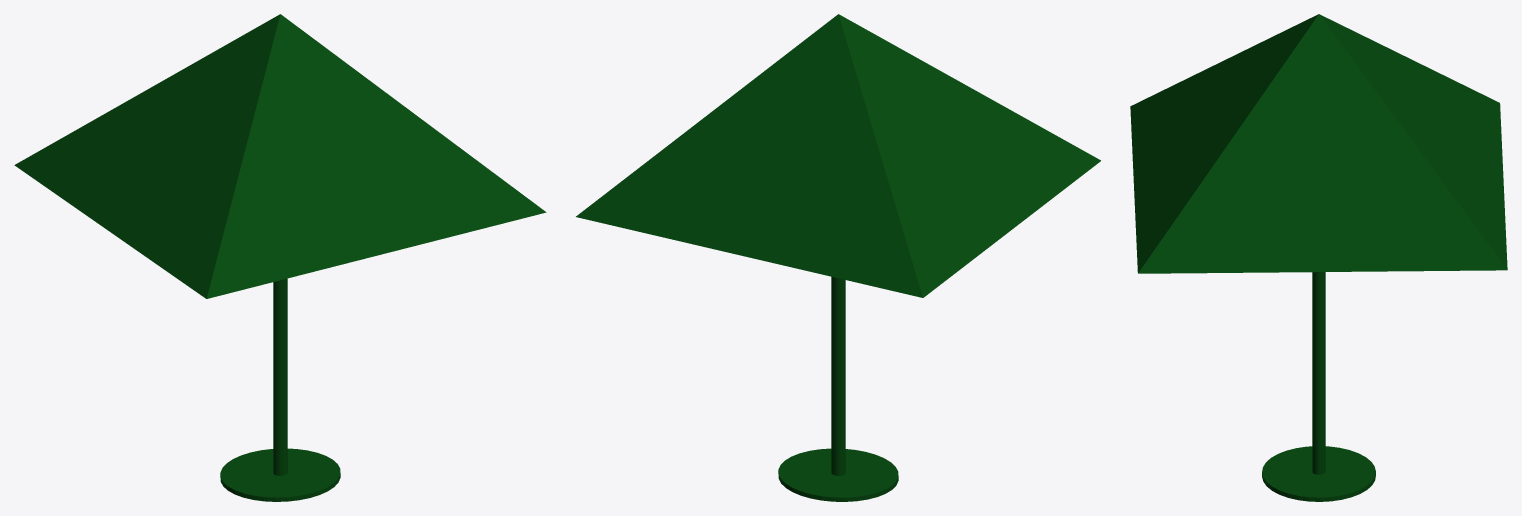
The model's file is cube.416_lev3.glb.
3 renders of one model, left to right at view 1: azimuth 30°, elevation 25°; view 2: azimuth 150°, elevation 25°; view 3: azimuth 270°, elevation 25°, orthographic.
Parts seen in each view (by area): view 1: cube.416_lev3; view 2: cube.416_lev3; view 3: cube.416_lev3.
Part boxes in pixels (x1,y1,x2,y2): cube.416_lev3: (14, 14, 546, 501); cube.416_lev3: (576, 14, 1100, 501); cube.416_lev3: (1130, 14, 1507, 501).
Size of the model in its own units: 1.17 by 1.47 by 1.09.
